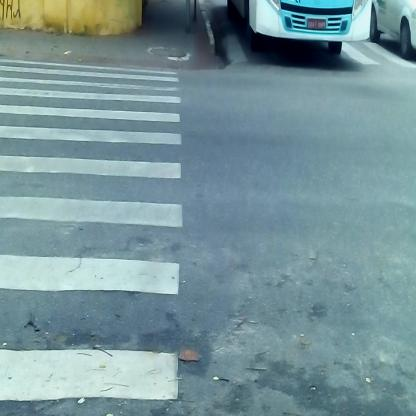crosswalk: (1, 63, 195, 408)
